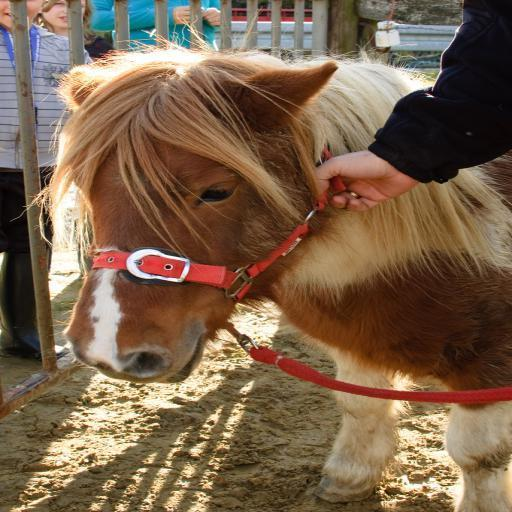horse: (10, 7, 512, 512)
